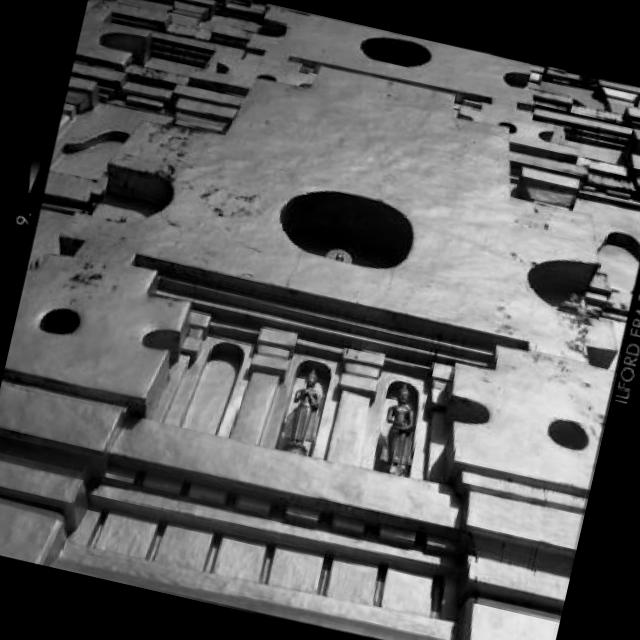Person: (369, 380, 422, 480), (278, 370, 332, 450)
